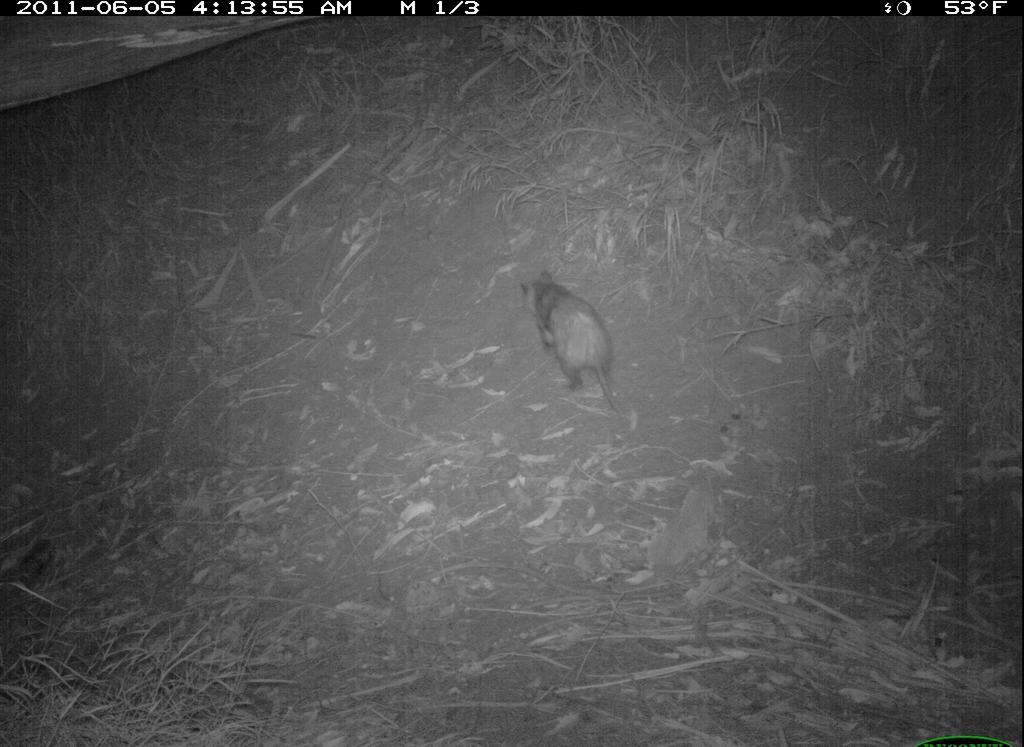opossum: (511, 265, 632, 420)
